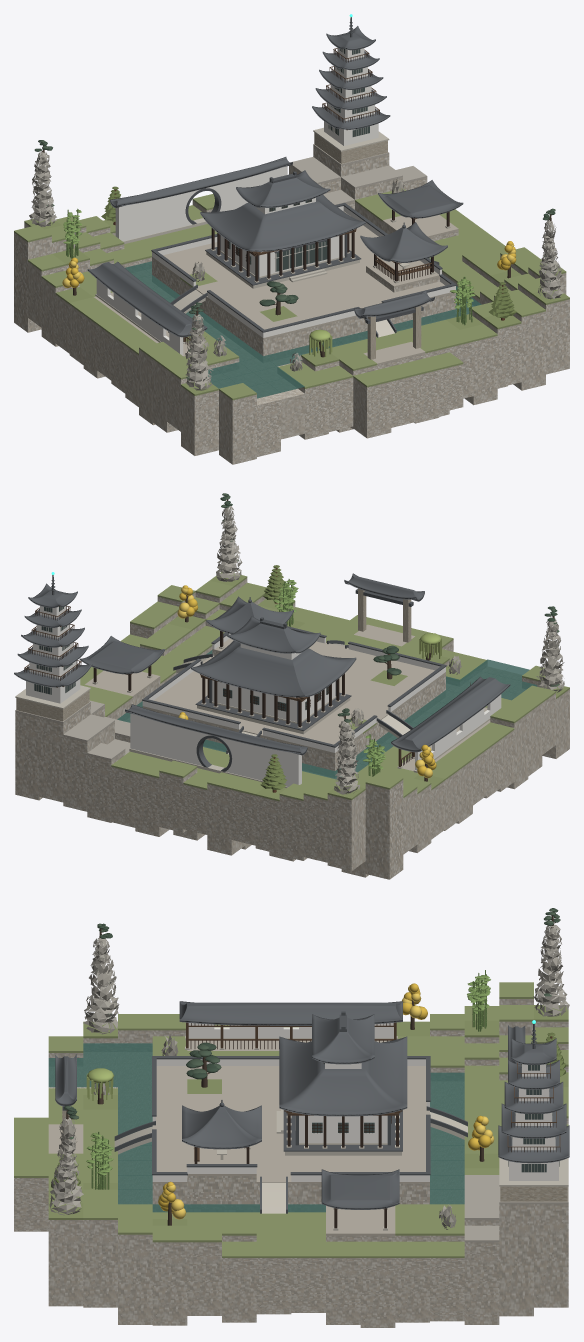
File: mew-diorama.glb
3 renders of one model, top to bottom at view 1: azimuth 30°, elevation 25°; view 2: azimuth 150°, elevation 25°; view 3: azimuth 270°, elevation 25°, orthographic. The views are drawn at different scales.
Parts seen in each view (by area): view 1: island_terrain, hall, tower, moon_gate_wall, gallery, court_parapets, pavilion_inner, pavilion_east, south_gate, karst_peak_13_0, karst_peak_0_1, karst_peak_14_14 (+3 smaller); view 2: island_terrain, hall, tower, moon_gate_wall, gallery, court_parapets, pavilion_east, south_gate, pavilion_inner, karst_peak_13_0, karst_peak_14_14, karst_peak_0_1 (+8 smaller); view 3: island_terrain, hall, tower, gallery, court_parapets, pavilion_inner, pavilion_east, karst_peak_13_0, karst_peak_0_1, karst_peak_14_14, south_gate, tree_bamboo_13_11 (+9 smaller).
Part boxes in pixels (<box>): island_terrain: <box>14,144,569,464</box>; hall: <box>200,170,365,288</box>; tower: <box>312,14,390,163</box>; moon_gate_wall: <box>110,157,292,243</box>; gallery: <box>87,261,207,356</box>; court_parapets: <box>151,203,456,337</box>; pavilion_inner: <box>360,222,447,283</box>; pavilion_east: <box>378,180,463,228</box>; south_gate: <box>354,290,434,359</box>; karst_peak_13_0: <box>185,302,213,390</box>; karst_peak_0_1: <box>29,140,56,226</box>; karst_peak_14_14: <box>538,208,563,299</box>; island_terrain: <box>15,572,569,879</box>; hall: <box>191,616,356,734</box>; tower: <box>14,572,92,721</box>; moon_gate_wall: <box>125,704,307,787</box>; gallery: <box>391,676,510,772</box>; court_parapets: <box>142,626,446,752</box>; pavilion_east: <box>79,636,164,692</box>; south_gate: <box>344,573,424,642</box>; pavilion_inner: <box>206,596,293,648</box>; karst_peak_13_0: <box>536,606,564,692</box>; karst_peak_14_14: <box>216,493,242,581</box>; karst_peak_0_1: <box>334,708,359,794</box>; island_terrain: <box>14,982,568,1327</box>; hall: <box>276,1011,407,1155</box>; tower: <box>498,1020,569,1201</box>; gallery: <box>179,1001,402,1049</box>; court_parapets: <box>152,1056,430,1181</box>; pavilion_inner: <box>182,1100,261,1163</box>; pavilion_east: <box>321,1169,399,1230</box>; karst_peak_13_0: <box>83,923,119,1034</box>; karst_peak_0_1: <box>533,908,569,1016</box>; karst_peak_14_14: <box>49,1105,83,1215</box>; south_gate: <box>55,1054,76,1147</box>; tree_bamboo_13_11: <box>86,1131,114,1189</box>.
Bounding box in the file's own units: 514 × 347 × 513.
28 materials, 2 textured.
